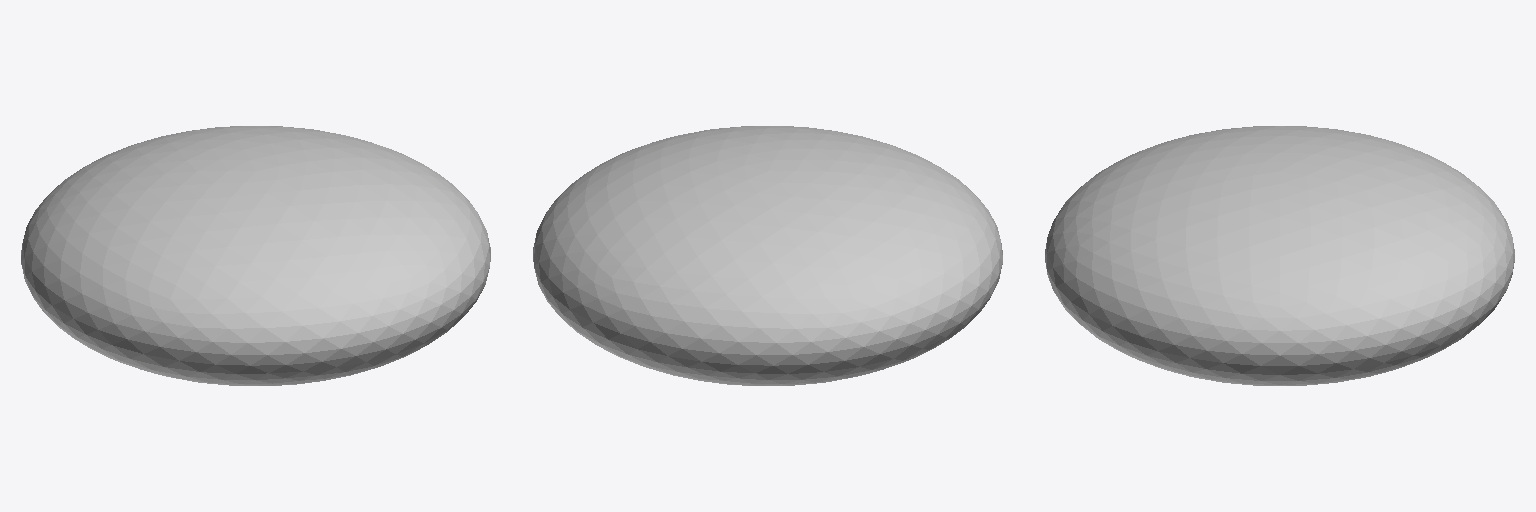
Rendered from white_chess_piece.obj.
3 views of the same model, side by side, from view 1: azimuth 30°, elevation 25°; view 2: azimuth 150°, elevation 25°; view 3: azimuth 270°, elevation 25° (orthographic).
Parts seen in each view (by area): view 1: 棱角球; view 2: 棱角球; view 3: 棱角球.
Part boxes in pixels (x1,y1,x2,y2): 棱角球: (21,126,490,385); 棱角球: (533,126,1002,385); 棱角球: (1045,126,1514,385).
Size of the model in its own units: 2 by 0.7931 by 2.